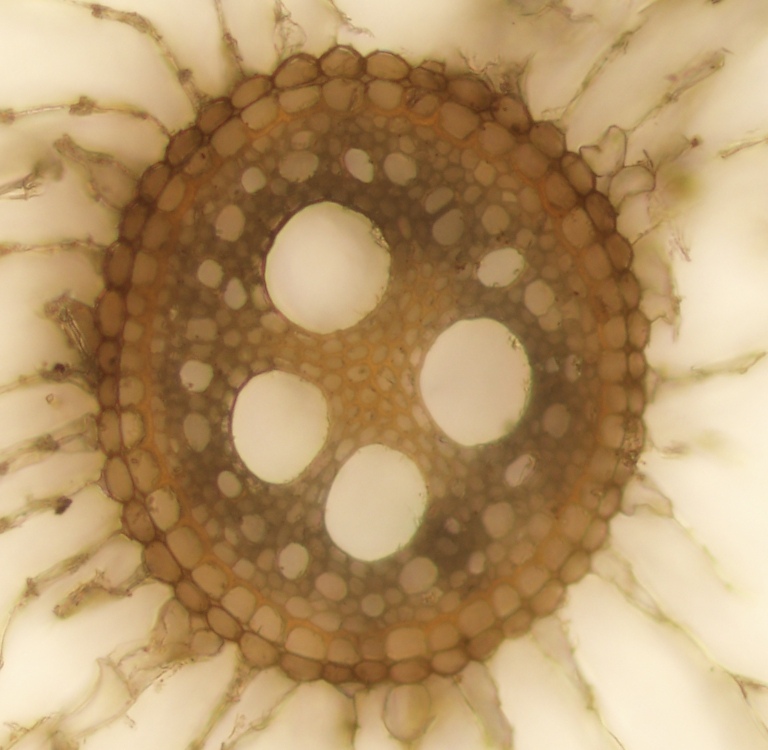lm: (264, 202, 390, 336), (418, 318, 532, 447), (323, 441, 430, 561), (228, 368, 328, 483)
